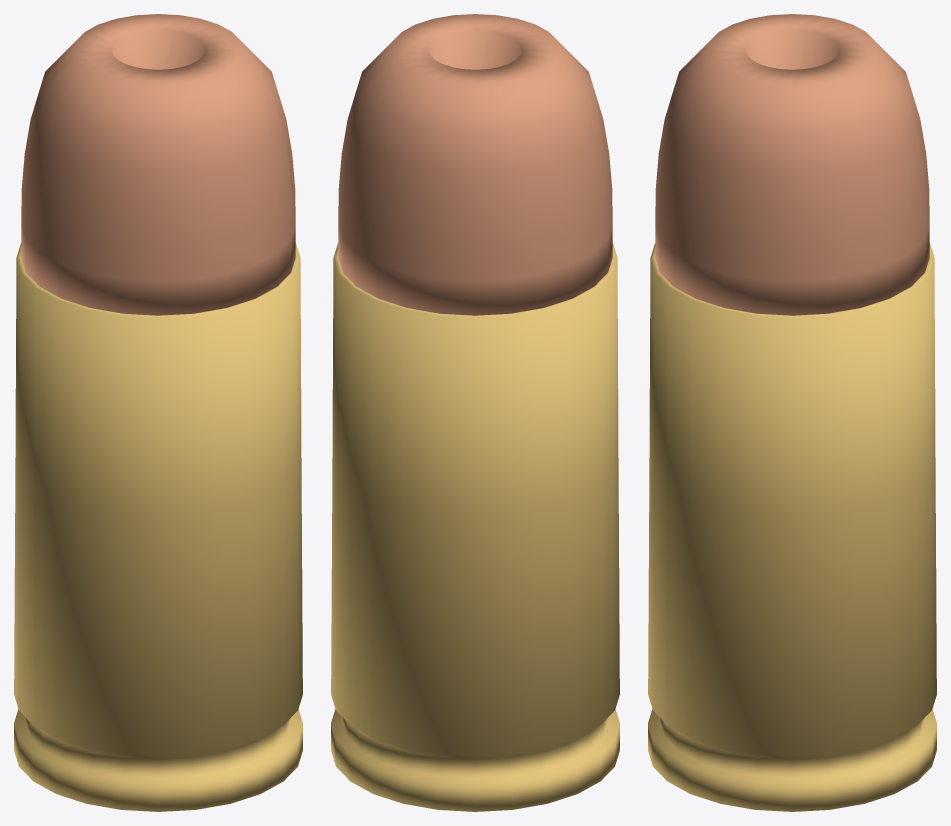
Rendered from 45acp_hp.glb.
The picture shows the model from 3 angles, left to right: view 1: azimuth 30°, elevation 25°; view 2: azimuth 150°, elevation 25°; view 3: azimuth 270°, elevation 25°; orthographic projection.
Parts seen in each view (by area): view 1: vaina, bala_hueca; view 2: vaina, bala_hueca; view 3: vaina, bala_hueca.
Boxes of the visible parts, box(x1,y1,x2,y2) form: vaina: box(14, 243, 302, 811); bala_hueca: box(21, 14, 295, 315); vaina: box(331, 243, 619, 811); bala_hueca: box(338, 14, 612, 315); vaina: box(648, 243, 936, 811); bala_hueca: box(655, 14, 929, 315).
Size of the model in its own units: 0.0121 by 0.0324 by 0.0121.
